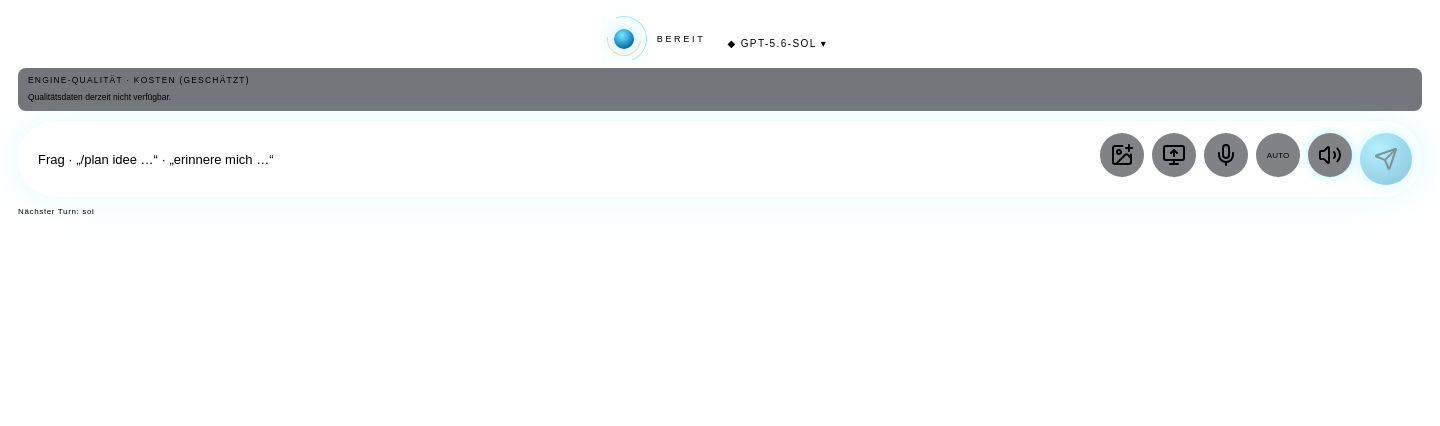
it: JarvisChat G2b Controller-Naht › TTS-Barge-in (Mic-Start stoppt Wiedergabe) mit voiceMode unverändert
The width and height of the screenshot is (1440, 426).
Type "lies vor" into the field named "Nachricht an Jarvis" at (564, 159), box [38, 137, 1090, 181]
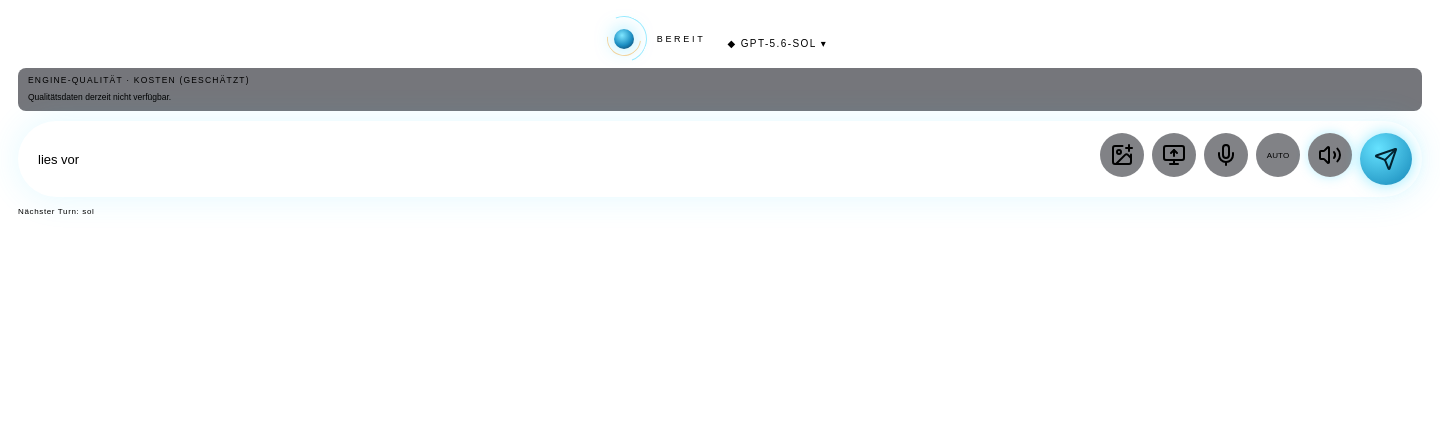
Click the button named "Nachricht senden" at (1386, 159), box [1360, 133, 1412, 185]
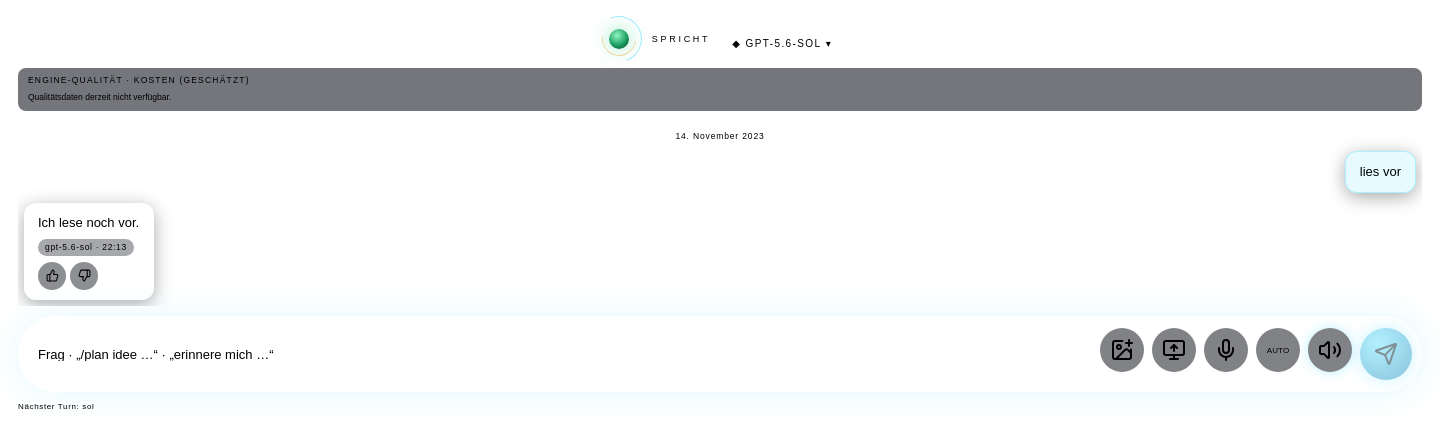
Expected: the text "Ich lese noch vor." is shown, [38, 214, 139, 230]
Click the button named "Diktieren" at (1226, 350), box [1204, 328, 1248, 372]
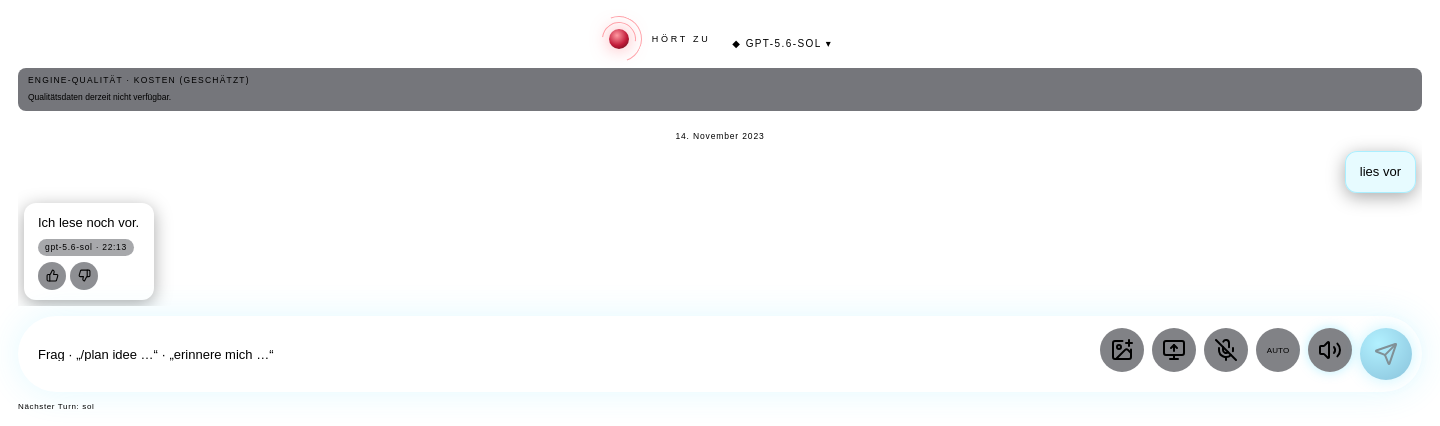
Expected: the button named "Aufnahme läuft — zum Stoppen tippen" is shown, [1204, 328, 1248, 372]
